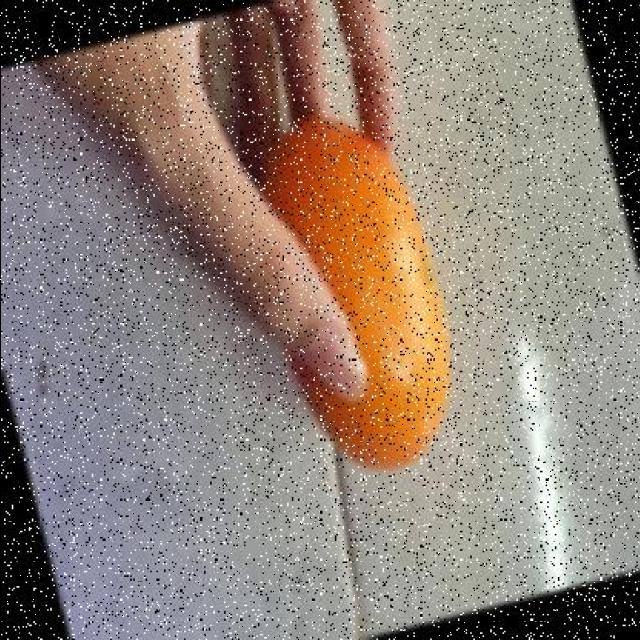Orange: (256, 114, 454, 474)
